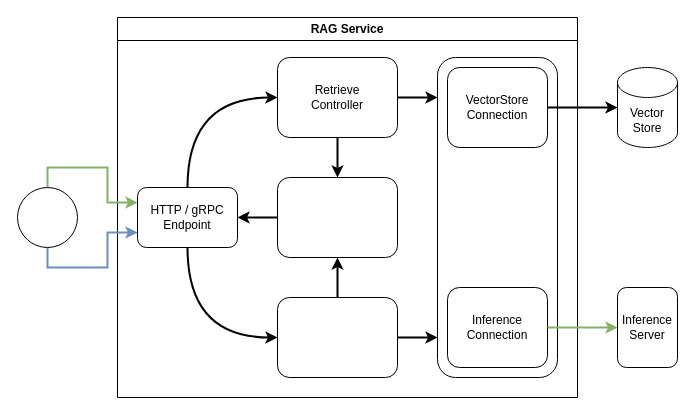
Image size: 695x415. Some labels were removed from this diagram. Each missing label, with the centre of its shape:
"Ingest Controller" goes at (337,337).
"Query" goes at (47,217).
"Response Builder" goes at (337,217).
